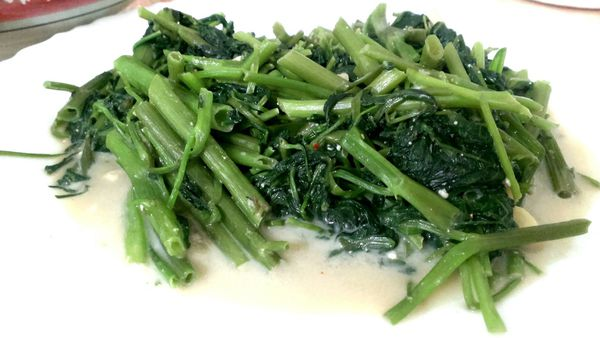water_spinach: (63, 13, 555, 288)
